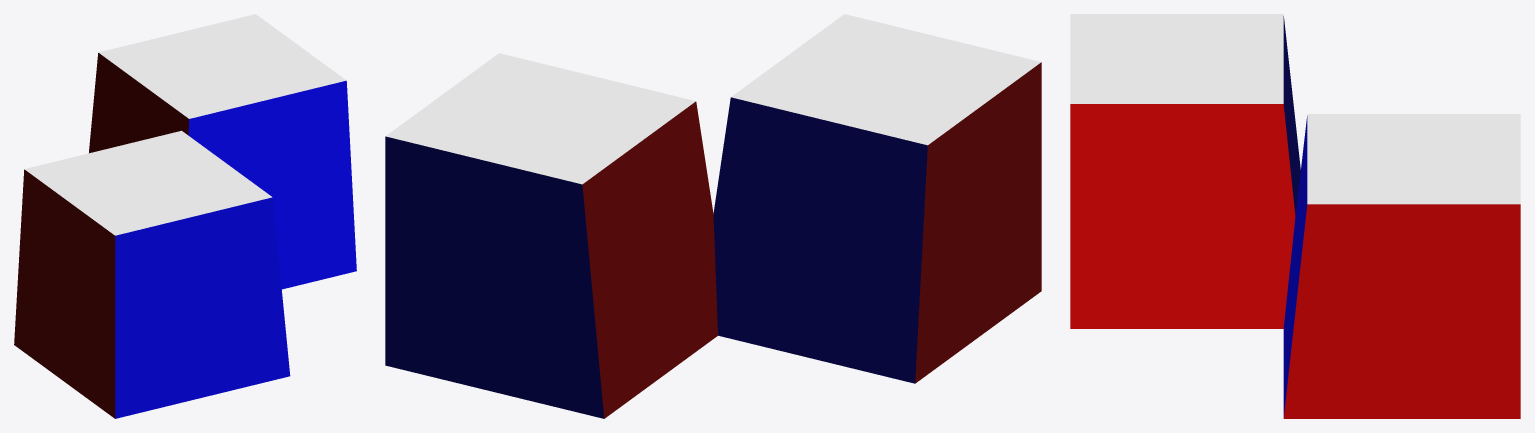
File: labeled_mesh.glb
The picture shows the model from 3 angles, left to right: view 1: azimuth 30°, elevation 25°; view 2: azimuth 150°, elevation 25°; view 3: azimuth 270°, elevation 25°; orthographic projection. The views are drawn at different scales.
Bounding box in the file's own units: 19000 × 10000 × 19000.
Materials: 1 (1 with a texture image).
